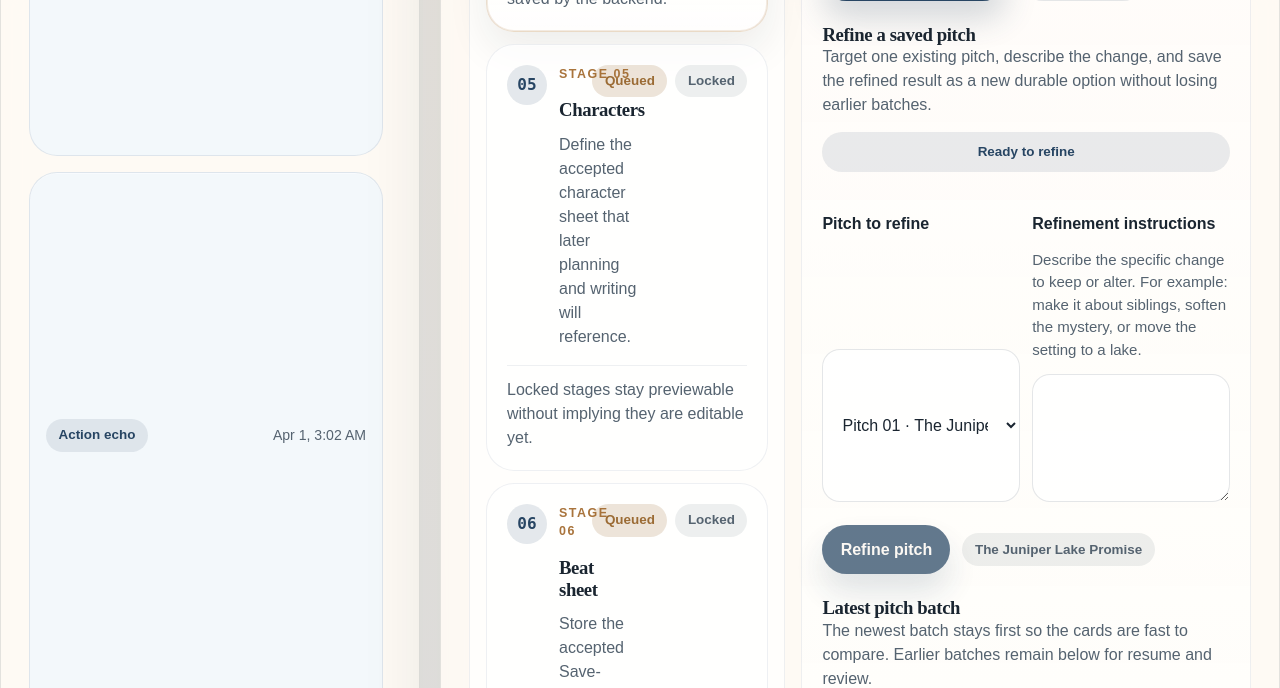
Test: SessionWorkspacePage › refines a saved pitch from the workspace without overwriting earlier batches
(page scrolled)
Select "Pitch 02 · The Last Lantern Question" in the dropdown labelled "Pitch to refine" at (921, 426), box [822,349,1020,502]
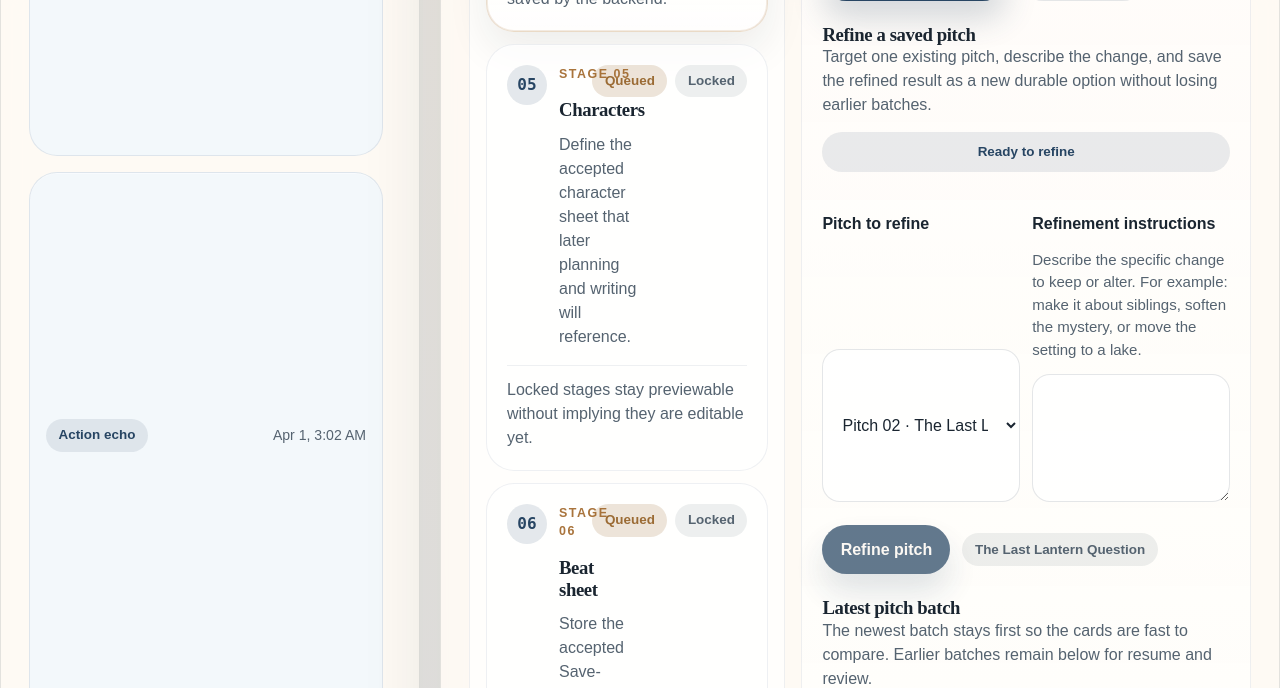
Type "Make it about siblings who help each other settle down." into the text box labelled "Refinement instructions".
click(1131, 438); type("Make it about siblings who help each other settle down.")  # box [1032,374,1230,502]
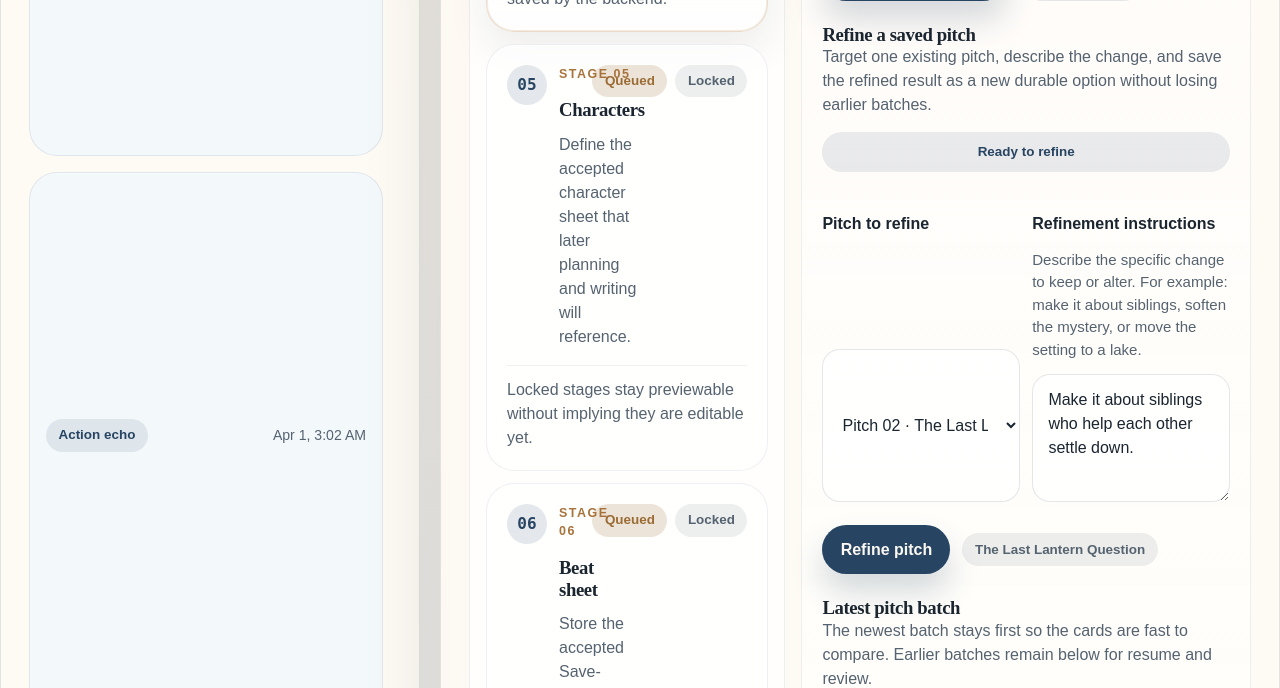
Click the button "Refine pitch".
click(886, 550)  # box [822,525,950,574]
(page scrolled)
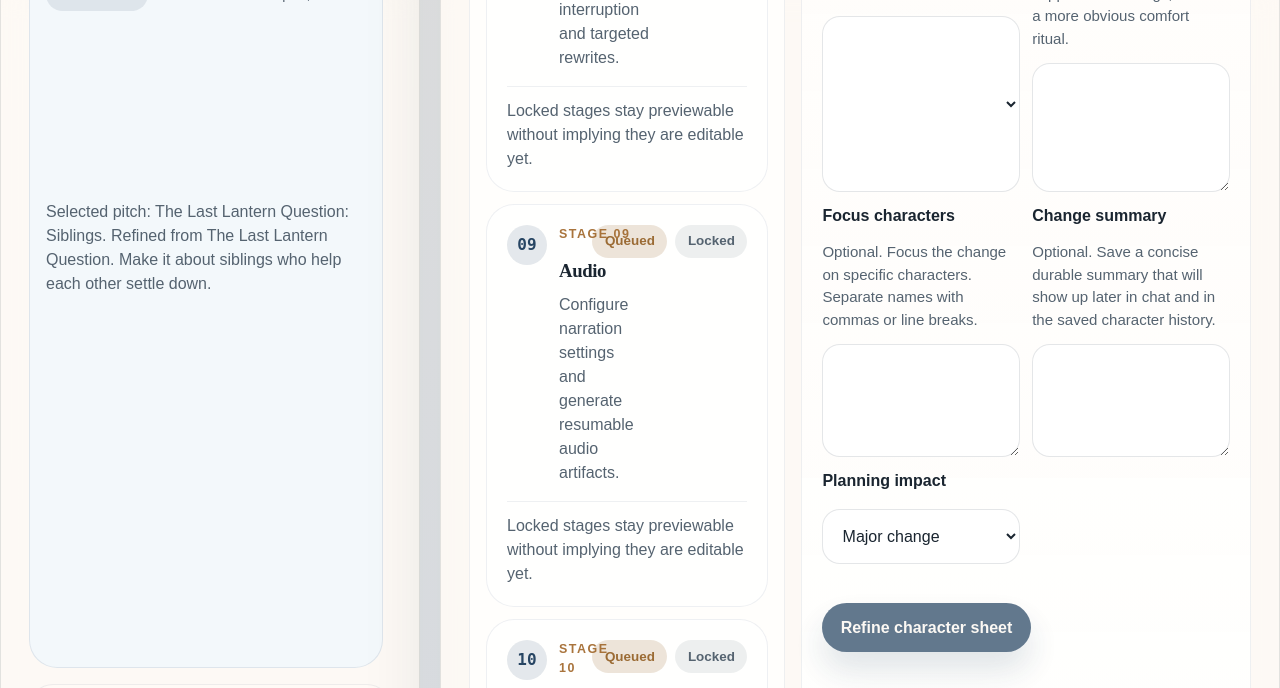
Now the text "Refined from The Last Lantern Question. Make it about siblings who help each other settle down." is shown, box [46,203,354,292]
